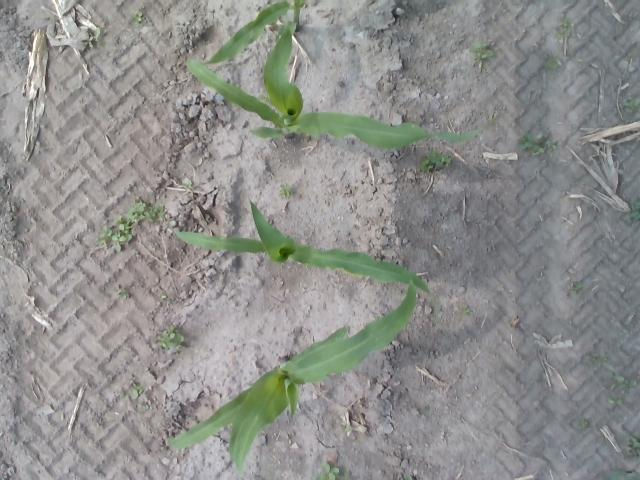Maize: (166, 280, 418, 476), (186, 23, 496, 149), (170, 199, 438, 328), (199, 0, 307, 66)
Weeds: (96, 214, 132, 252), (125, 200, 167, 224), (419, 146, 452, 172), (514, 132, 546, 155), (156, 326, 184, 350), (606, 370, 637, 390), (314, 460, 341, 480), (602, 468, 640, 480), (469, 42, 493, 60), (625, 428, 640, 456), (85, 28, 105, 49), (124, 382, 146, 400), (556, 17, 573, 38), (623, 98, 640, 114), (590, 353, 610, 366), (130, 10, 146, 26), (543, 54, 560, 69), (627, 202, 640, 220), (568, 282, 582, 296), (280, 184, 294, 198), (117, 286, 130, 300), (546, 139, 558, 152), (182, 180, 194, 191), (606, 396, 622, 404), (458, 306, 471, 315), (580, 419, 588, 429), (341, 472, 351, 480), (404, 474, 414, 480), (344, 426, 354, 432), (161, 293, 167, 301)
